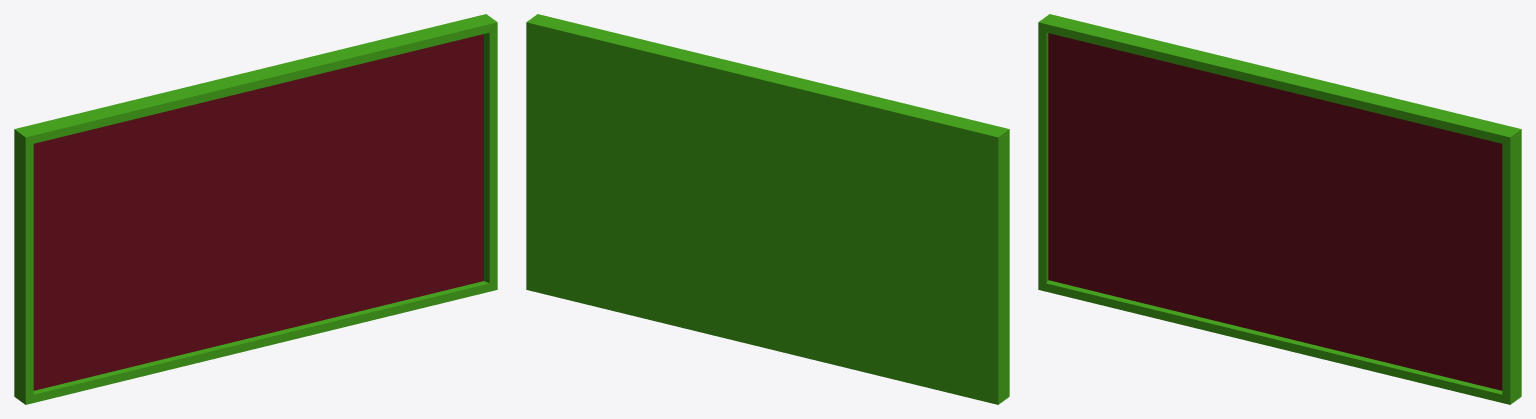
The model's file is Peg_Board_low.fbx.
The picture shows the model from 3 angles, left to right: view 1: azimuth 30°, elevation 25°; view 2: azimuth 150°, elevation 25°; view 3: azimuth 330°, elevation 25°; orthographic projection.
Visible parts, largest first — view 1: Peg_Board_low; view 2: Peg_Board_low; view 3: Peg_Board_low.
Boxes of the visible parts, x1=… form: Peg_Board_low: x1=14, y1=14, x2=497, y2=404; Peg_Board_low: x1=526, y1=14, x2=1009, y2=404; Peg_Board_low: x1=1038, y1=14, x2=1521, y2=404.
Size of the model in its own units: 47.24 by 25.59 by 1.97.
